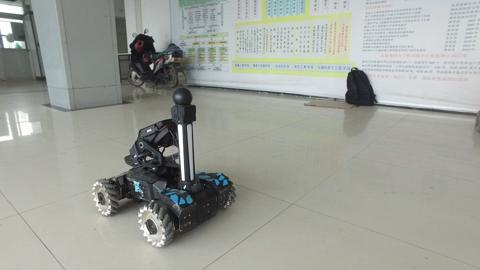bag: (338, 60, 383, 114)
chariot: (84, 84, 242, 250)
